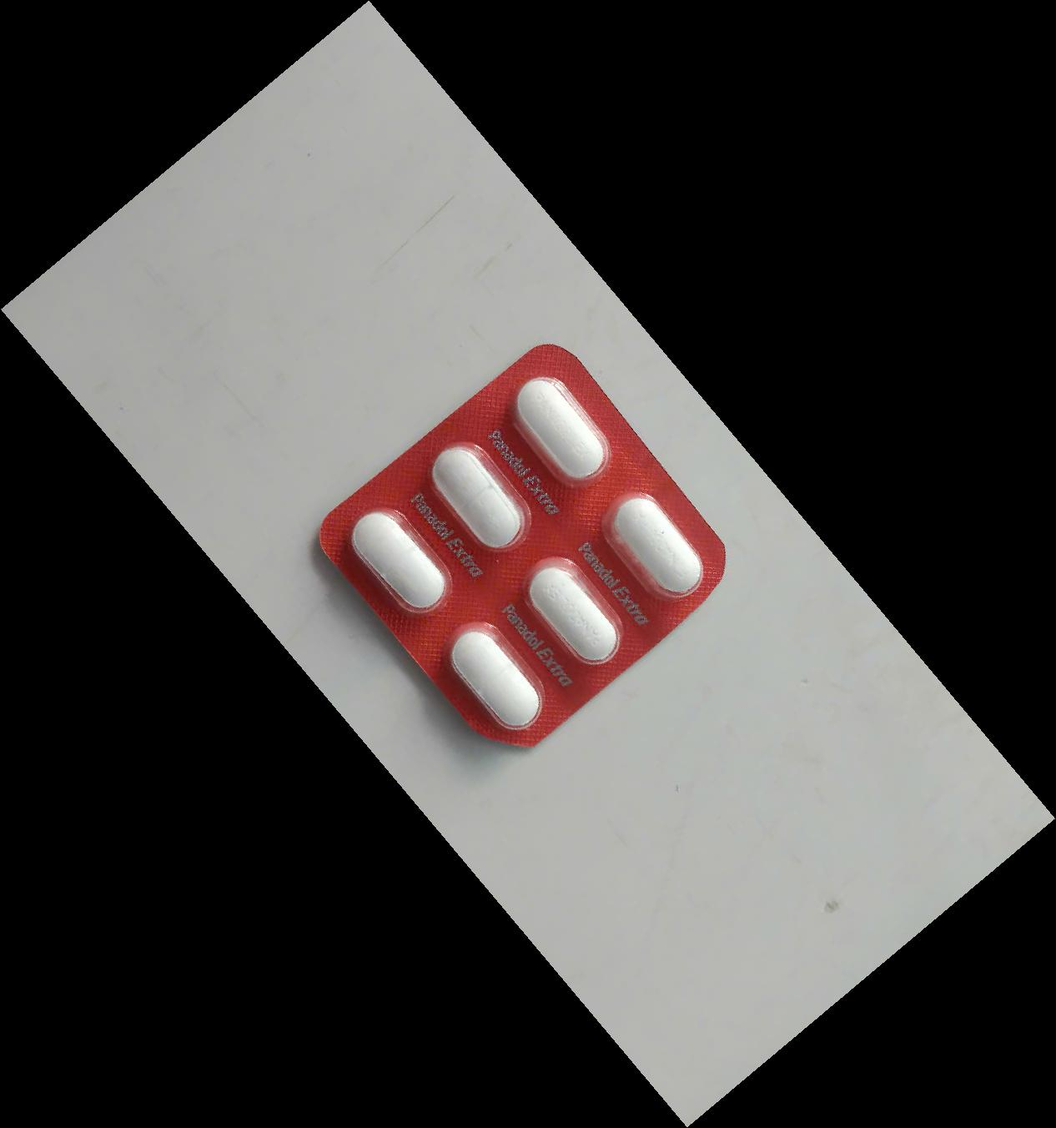Full: (496, 359, 629, 499), (591, 476, 724, 616), (411, 424, 544, 564), (510, 540, 643, 679), (333, 489, 466, 628), (432, 607, 565, 746)
